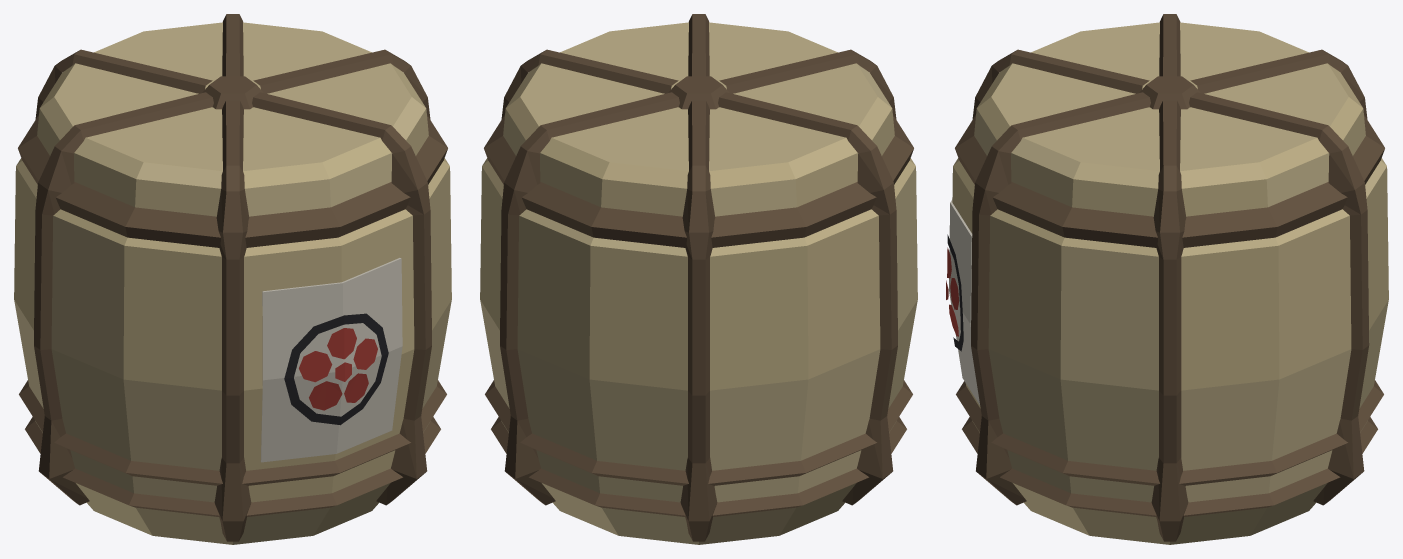
Rendered from komodaru-sake-barrel-c5199a.glb.
3 renders of one model, left to right at view 1: azimuth 30°, elevation 25°; view 2: azimuth 150°, elevation 25°; view 3: azimuth 270°, elevation 25°, orthographic.
Parts seen in each view (by area): view 1: komodaru; view 2: komodaru; view 3: komodaru.
Boxes of the visible parts, x1,y1,x2,y2 form: komodaru: [14, 14, 451, 544]; komodaru: [480, 14, 917, 544]; komodaru: [946, 14, 1388, 544].
Bounding box in the file's own units: 0.496 × 0.4745 × 0.4855.
